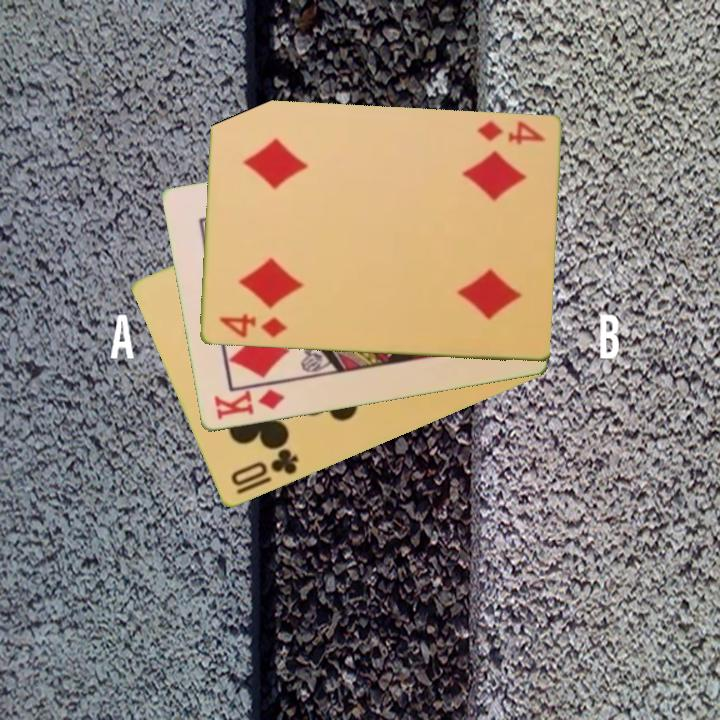10c: (227, 445, 302, 490)
4d: (215, 311, 289, 341), (473, 118, 547, 148)
Kd: (210, 386, 288, 423)
